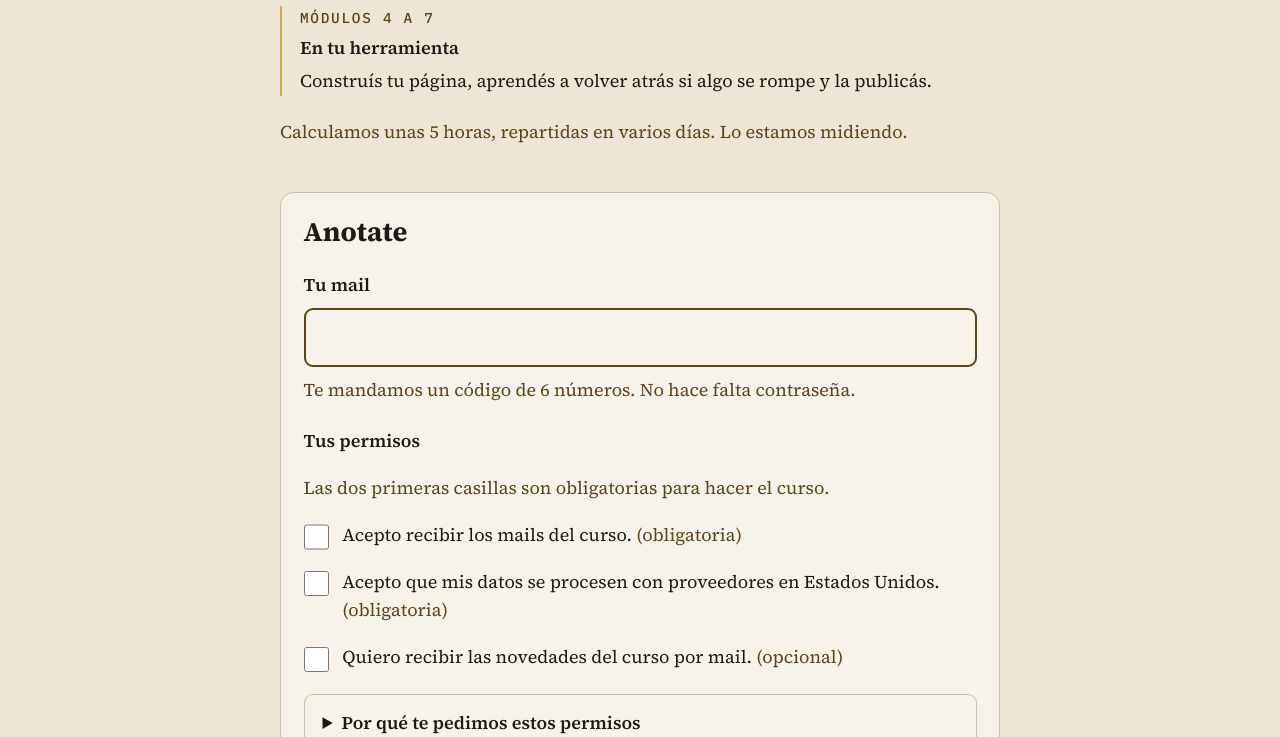
Test case: Landing › manda el mail, los consentimientos y la fuente del ?ref=, y pasa a pedir el código
(page scrolled)
Type " Persona@Ejemplo.com " into the field labelled "Tu mail" at (640, 338), box 304,308 -> 976,367
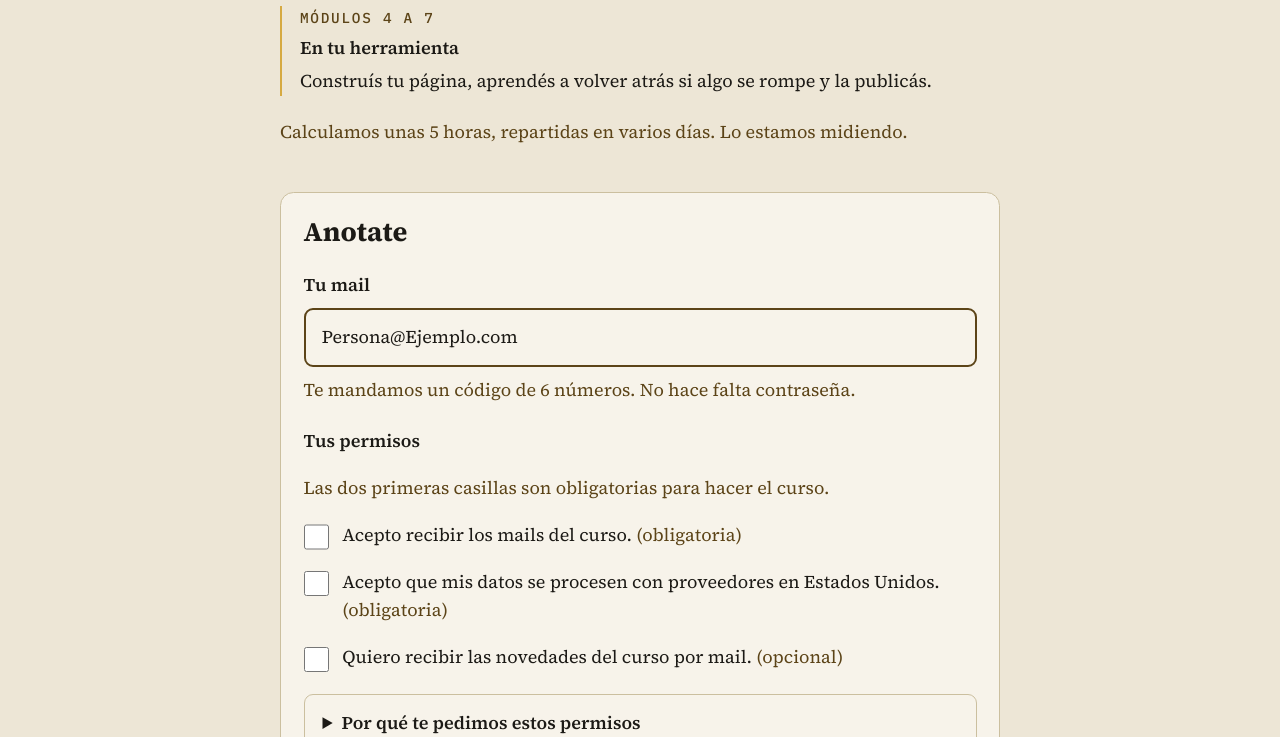
Click the checkbox labelled "Acepto recibir los mails del curso. (obligatoria)" at (316, 537), box 304,524 -> 329,550
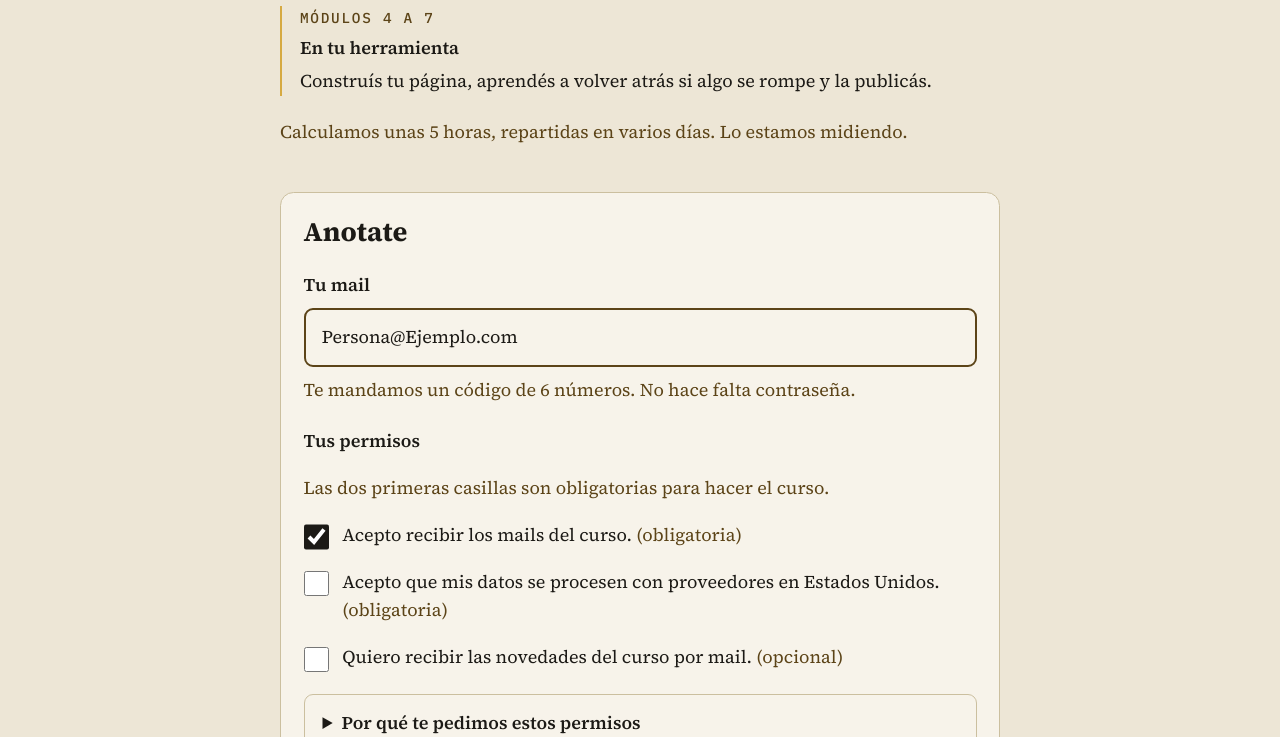
Click the checkbox labelled "Estados Unidos" at (316, 584), box 304,571 -> 329,596
(page scrolled)
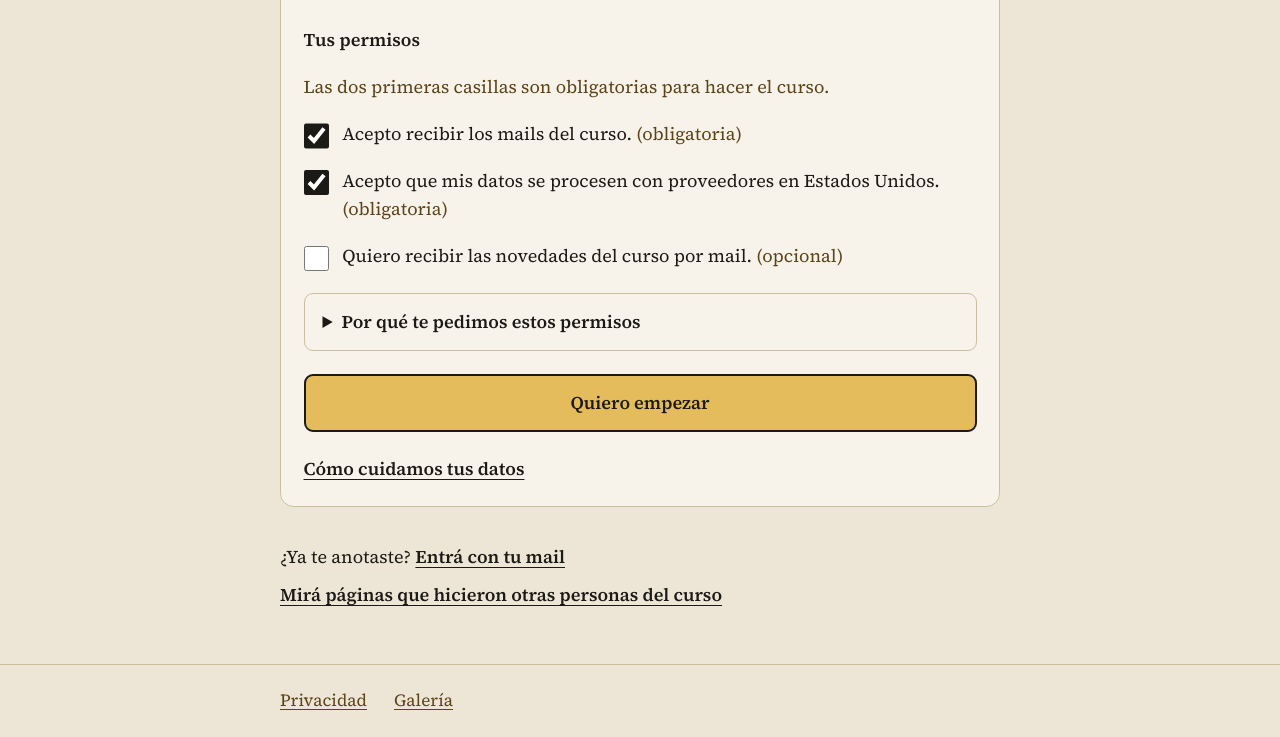
Click the button "Quiero empezar" at (640, 403), box 304,374 -> 976,432
(page scrolled)
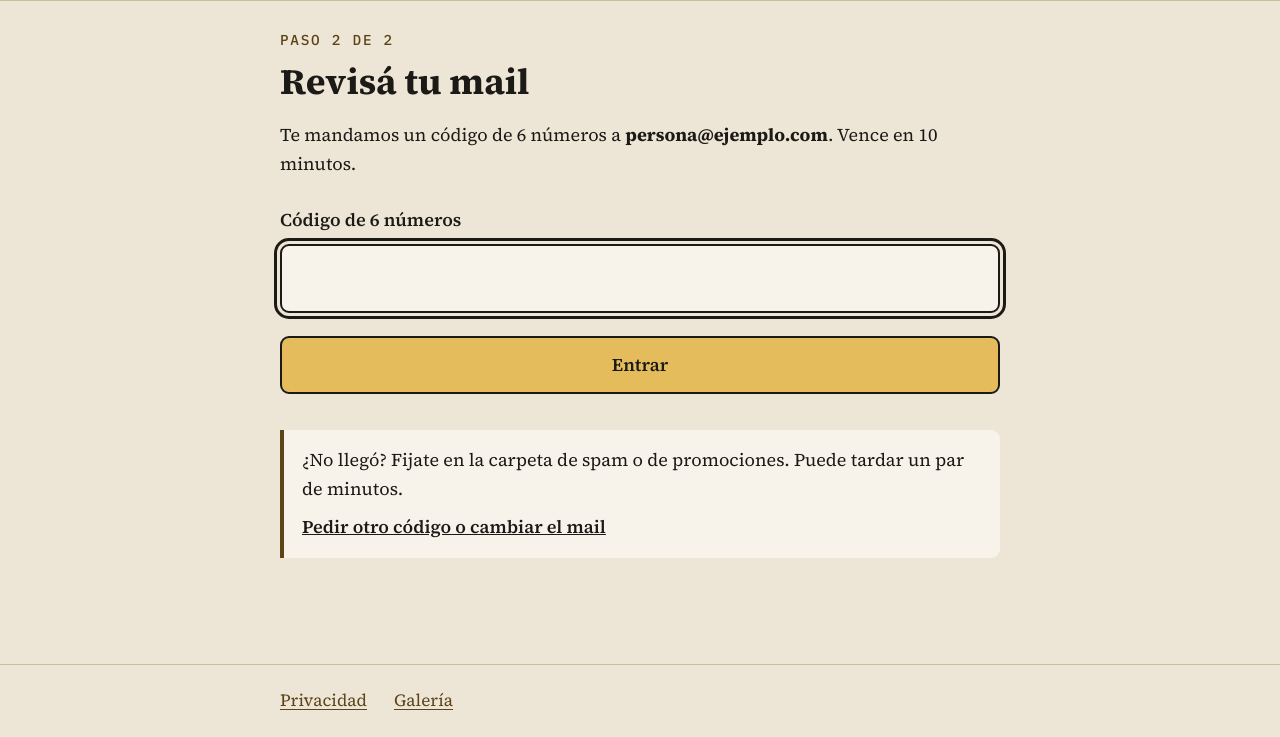
Now the field labelled "Código de 6 números" is shown, box 280,244 -> 1000,313
Now the text "persona@ejemplo.com" is shown, box 625,122 -> 828,147
